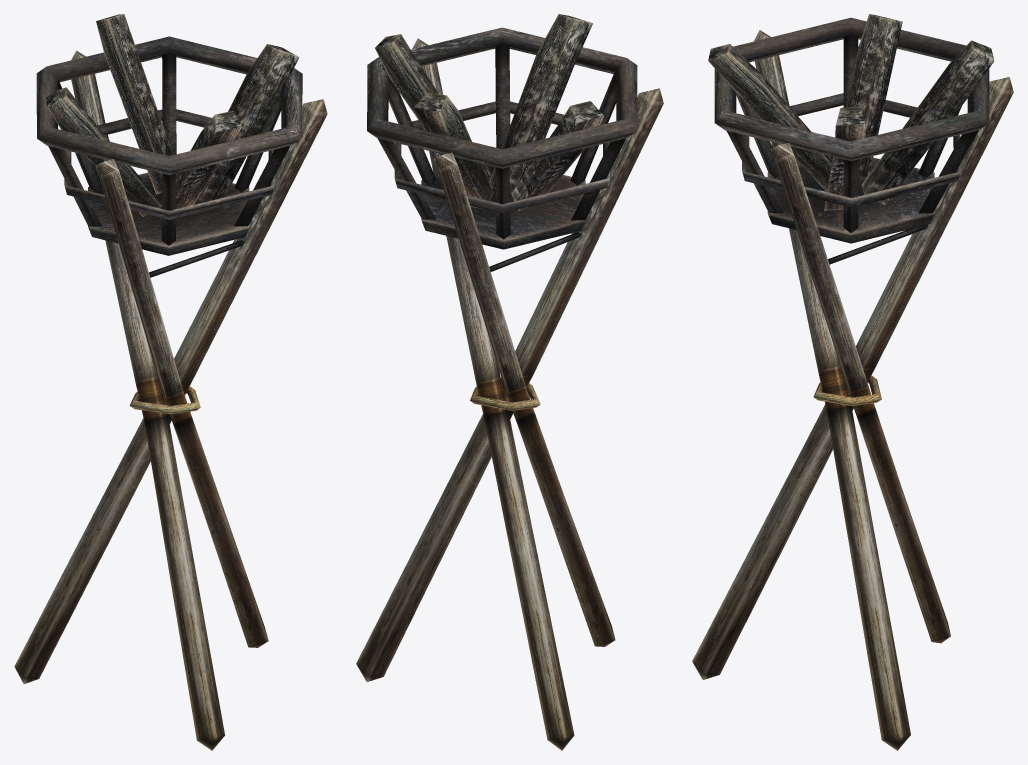
Rendered from Kagaribi.fbx.
3 renders of one model, left to right at view 1: azimuth 30°, elevation 25°; view 2: azimuth 150°, elevation 25°; view 3: azimuth 270°, elevation 25°, orthographic. The views are drawn at different scales.
Parts seen in each view (by area): view 1: SMO_BGxx_Kagaribi_0000; view 2: SMO_BGxx_Kagaribi_0000; view 3: SMO_BGxx_Kagaribi_0000.
Boxes of the visible parts, bbox=[...] form: SMO_BGxx_Kagaribi_0000: bbox=[14, 14, 327, 750]; SMO_BGxx_Kagaribi_0000: bbox=[356, 14, 663, 750]; SMO_BGxx_Kagaribi_0000: bbox=[692, 14, 1013, 750].
Size of the model in its own units: 108 by 245 by 110.
